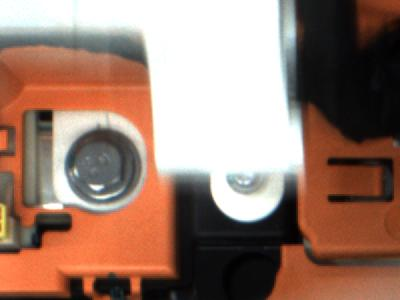nut_b: (60, 130, 146, 204)
